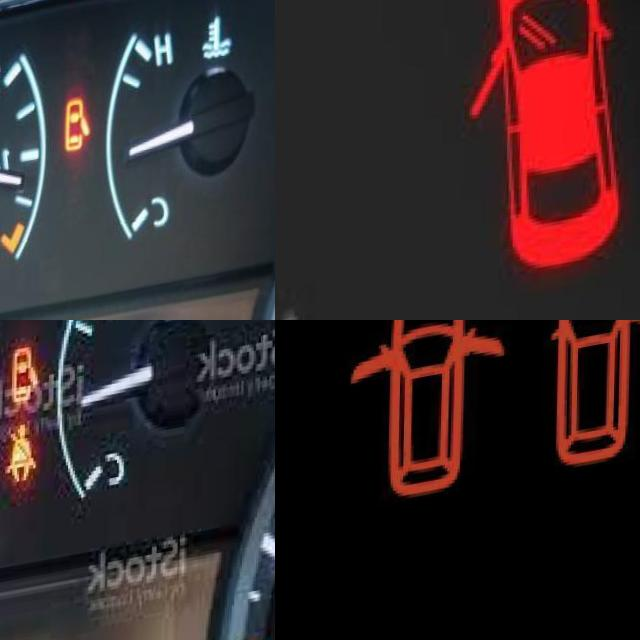Seat Belt: (6, 429, 38, 501)
